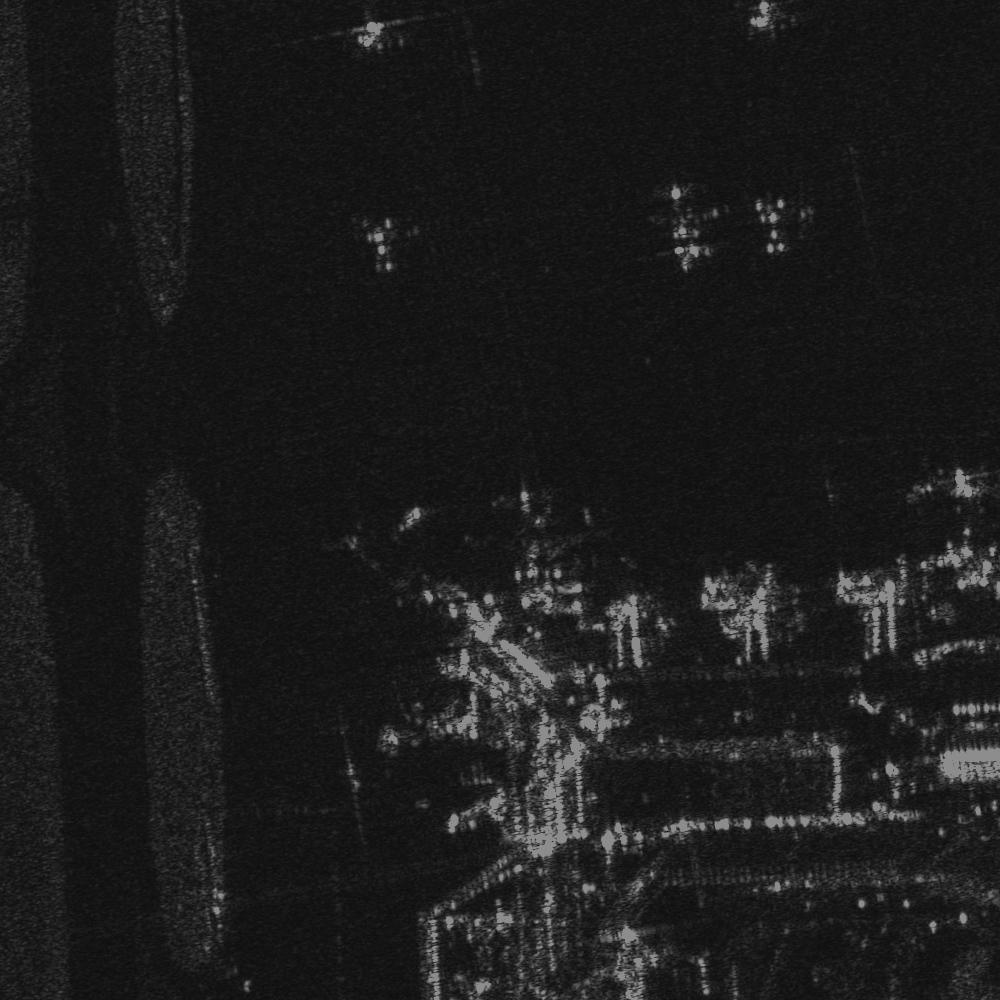A220: (743, 187, 813, 258)
ARJ21: (347, 209, 425, 280), (340, 8, 400, 60)
Boeing787: (913, 452, 999, 511)
other: (460, 486, 614, 579), (636, 182, 734, 276)
